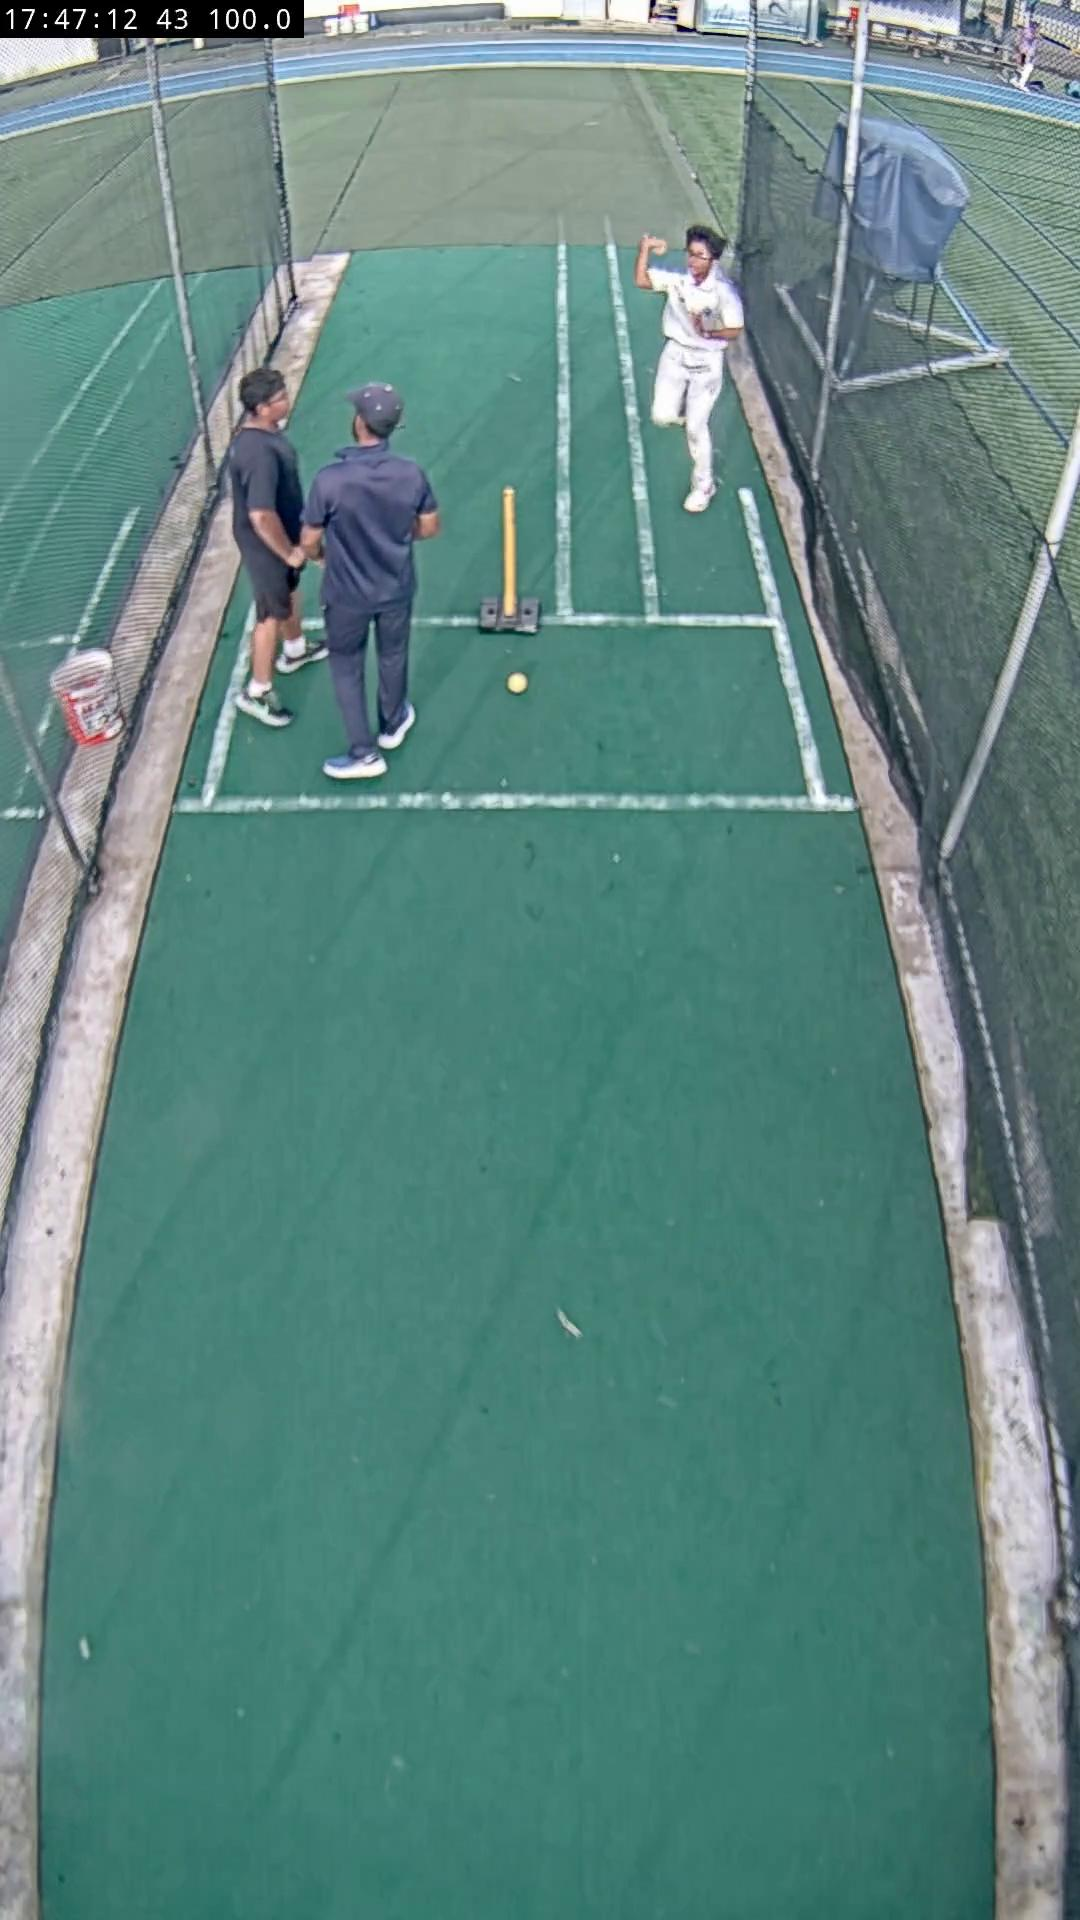ball: (506, 671, 529, 694), (655, 247, 667, 256)
stumps: (476, 488, 541, 634)
